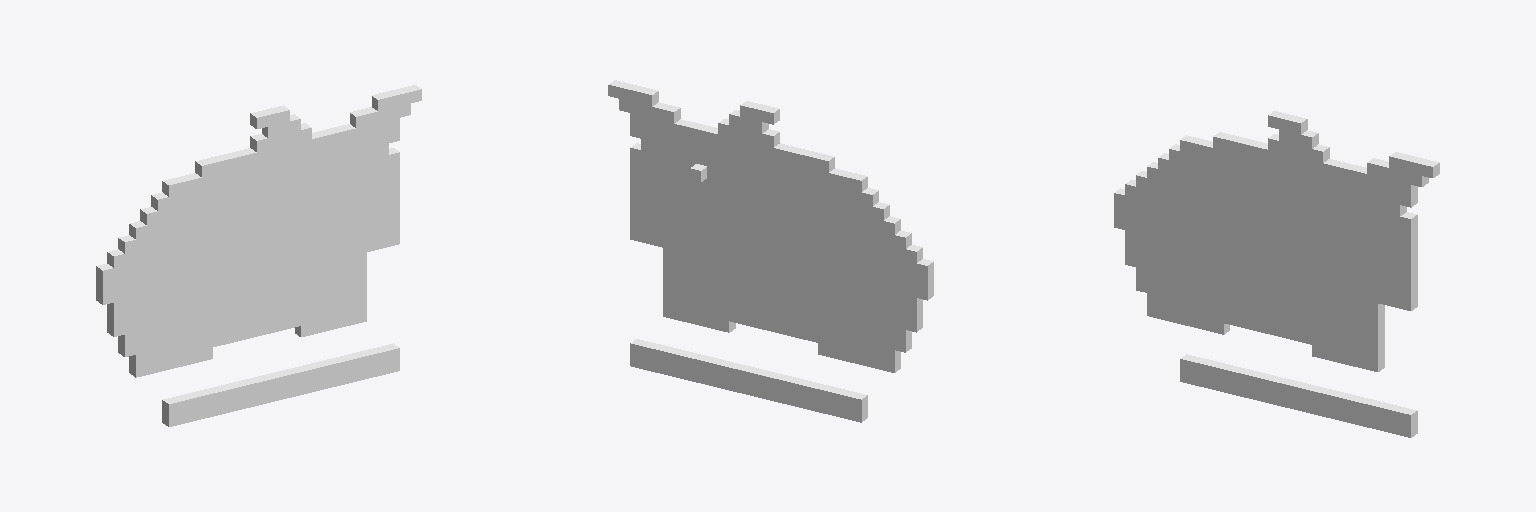
Rendered from pig9_1.obj.
3 renders of one model, left to right at view 1: azimuth 30°, elevation 25°; view 2: azimuth 150°, elevation 25°; view 3: azimuth 330°, elevation 25°, orthographic.
Visible parts, largest first — view 1: object 1; view 2: object 1; view 3: object 1.
Boxes of the visible parts, <box> form: object 1: <box>96,85,421,426</box>; object 1: <box>608,80,933,422</box>; object 1: <box>1114,111,1439,437</box>.
Bounding box in the file's own units: 2.9 × 2.5 × 0.2.